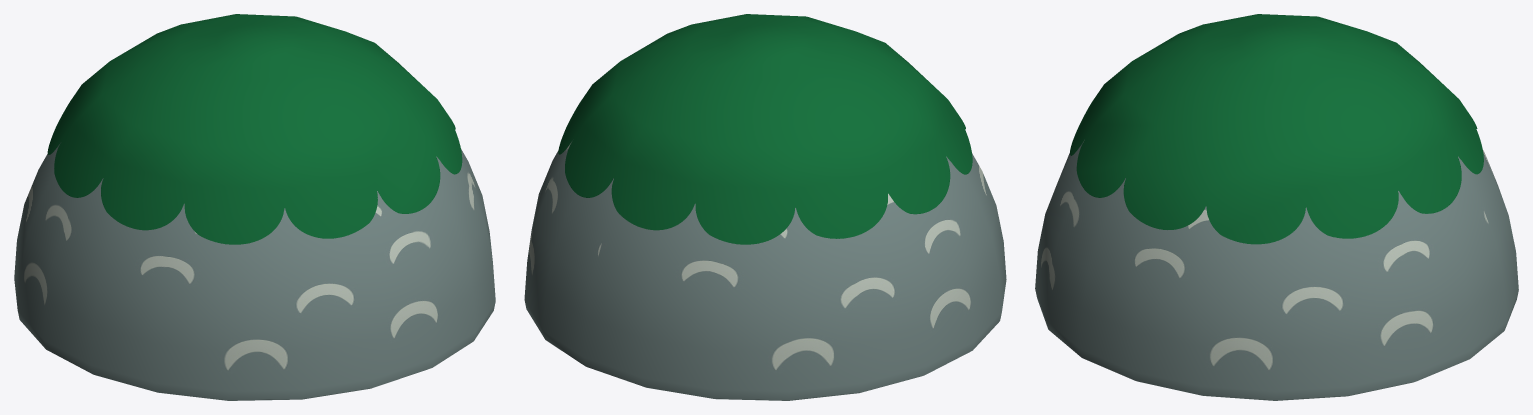
File: RockGiga.fbx
3 renders of one model, left to right at view 1: azimuth 30°, elevation 25°; view 2: azimuth 150°, elevation 25°; view 3: azimuth 270°, elevation 25°, orthographic.
Visible parts, largest first — view 1: Rock70, Rock69; view 2: Rock70, Rock69; view 3: Rock70, Rock69.
Part boxes in pixels (x1,y1,x2,y2): Rock70: (14, 143, 495, 400); Rock69: (47, 14, 462, 244); Rock70: (524, 142, 1006, 400); Rock69: (558, 14, 972, 244); Rock70: (1035, 140, 1518, 400); Rock69: (1070, 14, 1483, 244).
Size of the model in its own units: 3.11 by 1.86 by 3.11.
